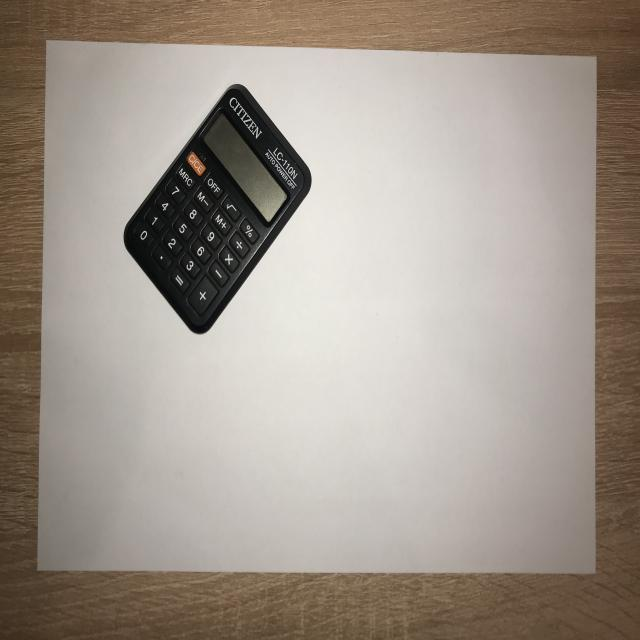calculator: (116, 75, 316, 342)
